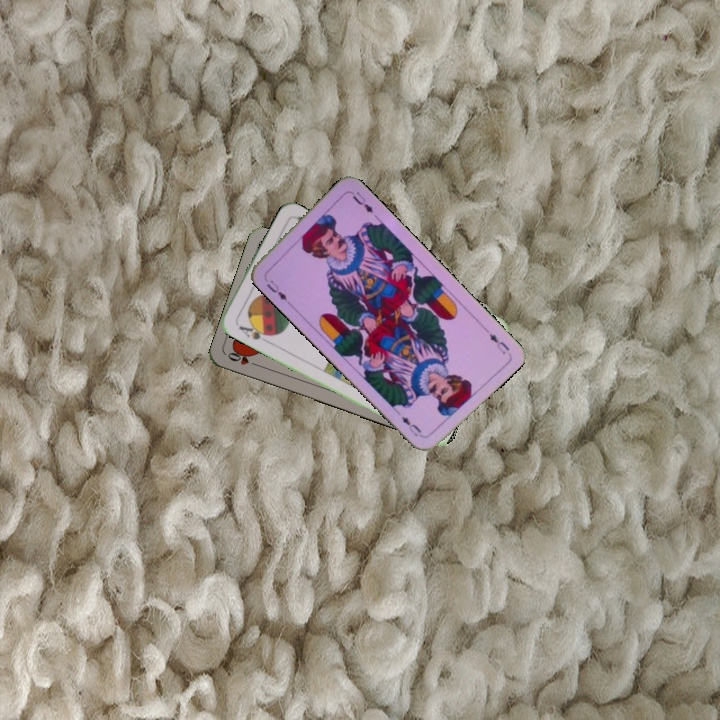EU: (262, 276, 290, 303), (485, 329, 512, 357)
HO: (224, 348, 262, 370)
SA: (235, 320, 273, 345)
